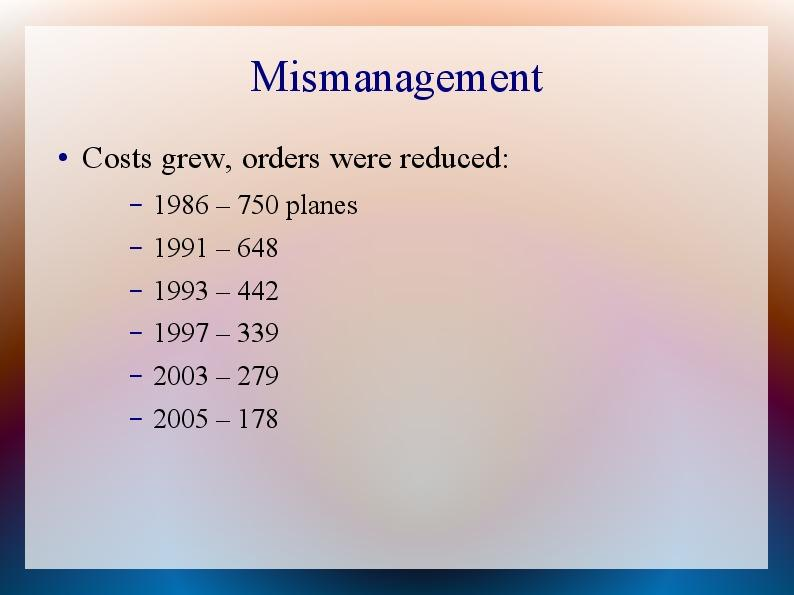paragraph: (49, 115, 578, 472)
title: (243, 48, 558, 112)
